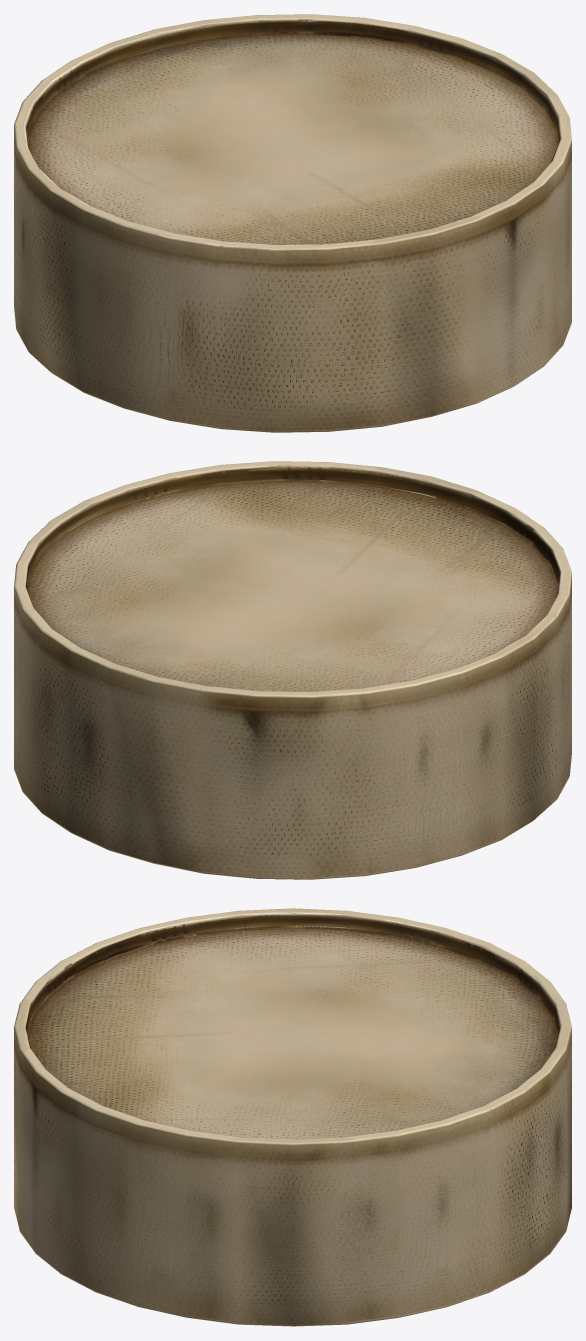
File: gold_hammered_coffee_table_flat_0428035934_texture.glb
3 renders of one model, top to bottom at view 1: azimuth 30°, elevation 25°; view 2: azimuth 150°, elevation 25°; view 3: azimuth 270°, elevation 25°, orthographic.
Parts seen in each view (by area): view 1: Mesh_0; view 2: Mesh_0; view 3: Mesh_0.
Part boxes in pixels (box(x1,y1,x2,y2)): Mesh_0: box(14, 14, 571, 432); Mesh_0: box(14, 461, 571, 879); Mesh_0: box(14, 908, 571, 1326).
Size of the model in its own units: 1.18 by 0.43 by 1.18.
1 material, 1 textured.
